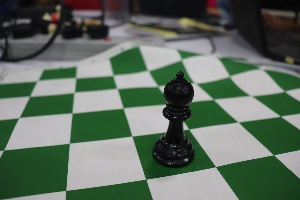black_bishop: (147, 58, 202, 169)
